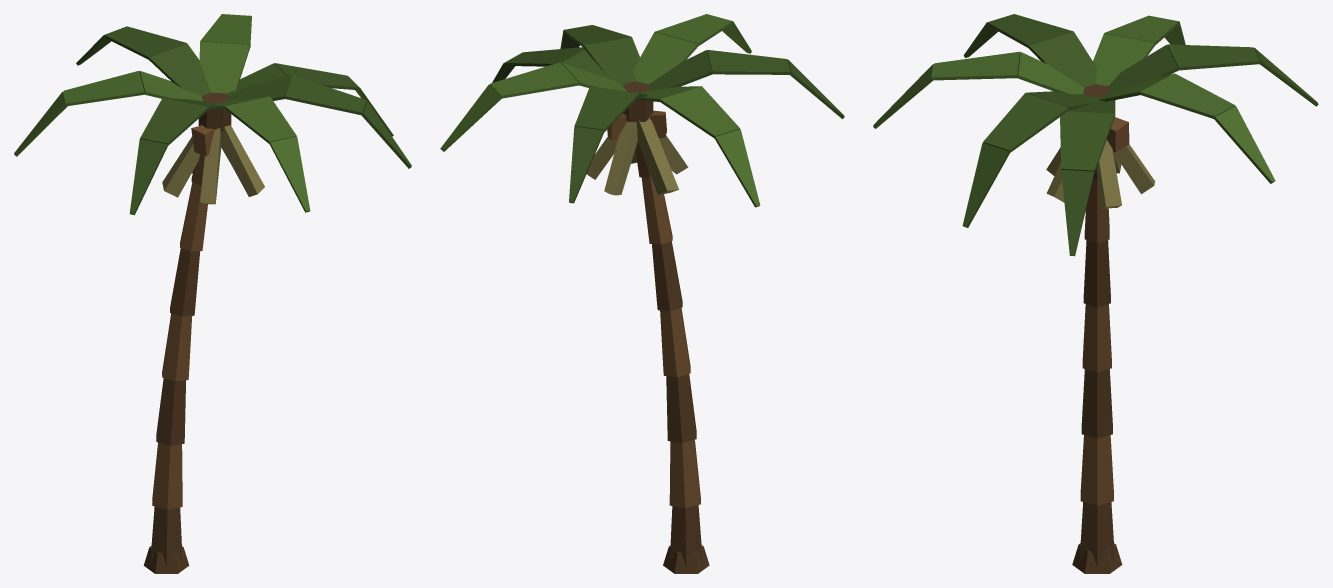
The model's file is palm.glb.
3 renders of one model, left to right at view 1: azimuth 30°, elevation 25°; view 2: azimuth 150°, elevation 25°; view 3: azimuth 270°, elevation 25°, orthographic. The views are drawn at different scales.
Visible parts, largest first — view 1: palm; view 2: palm; view 3: palm.
Boxes of the visible parts, <box> form: palm: <box>14,14,411,573</box>; palm: <box>440,14,844,573</box>; palm: <box>873,14,1318,573</box>.
Size of the model in its own units: 7.44 by 10.46 by 7.99.
